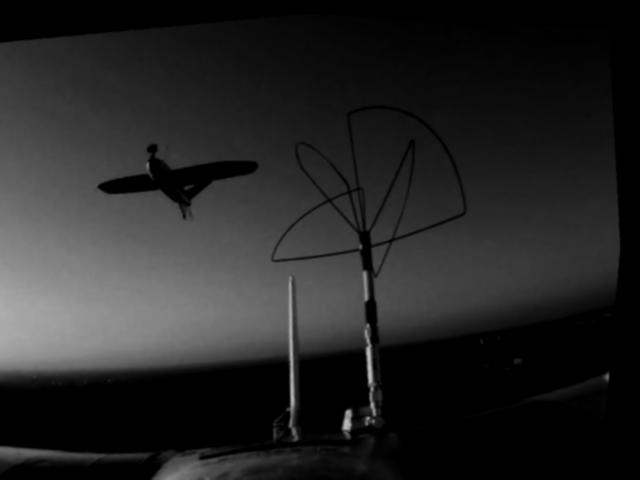hedef: (88, 113, 276, 250)
